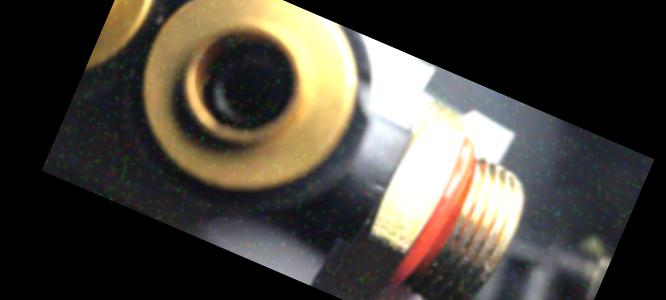bump: (336, 60, 403, 132)
white mark: (372, 178, 388, 194)
